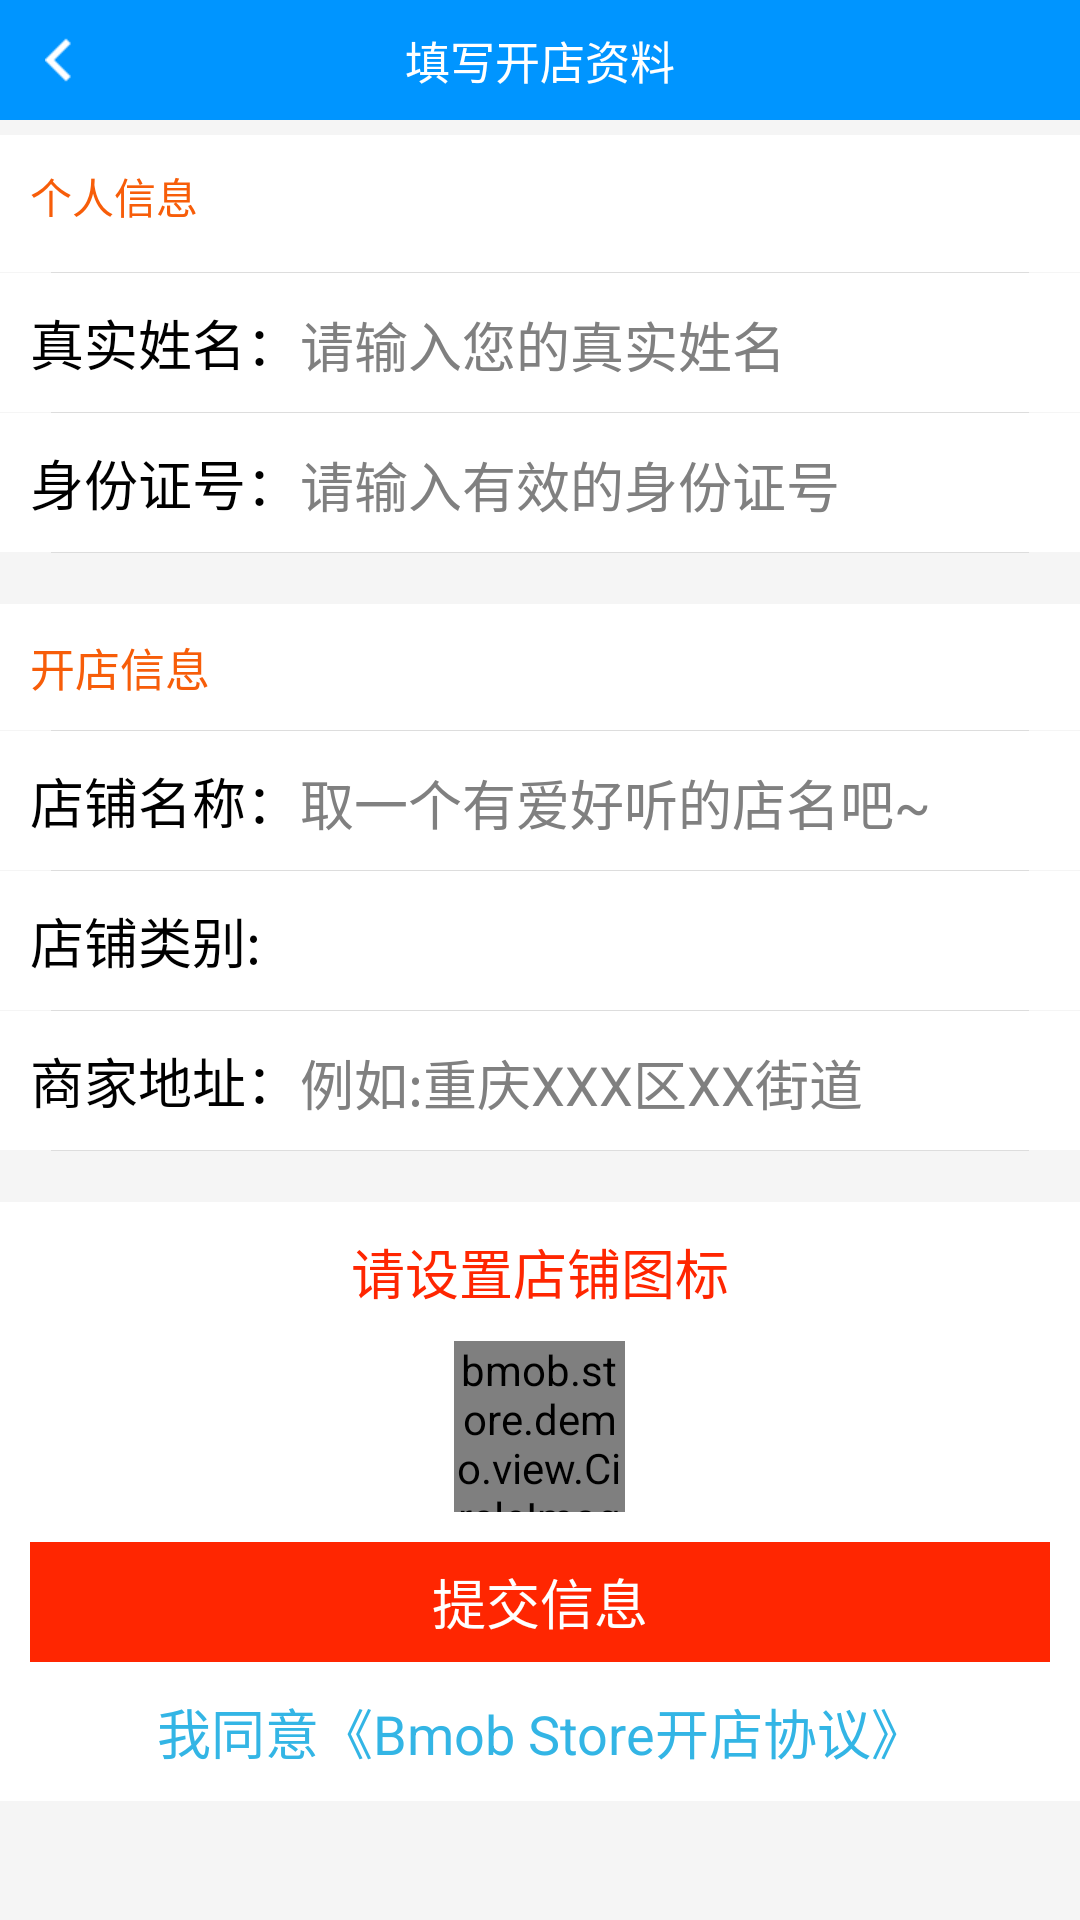

Icon bounding boxes for this 1080*1920 phone screenshot, format (x1, y1, x2, y2):
back indicator: (45, 38, 71, 82)
